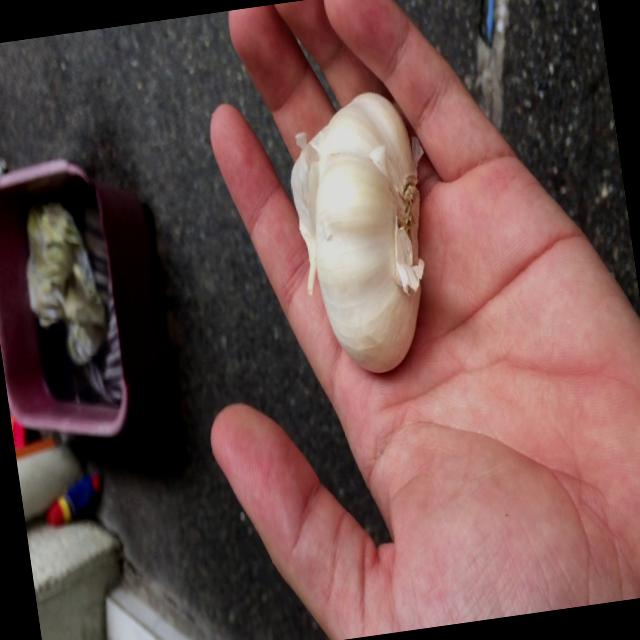bawang: (275, 79, 458, 388)
